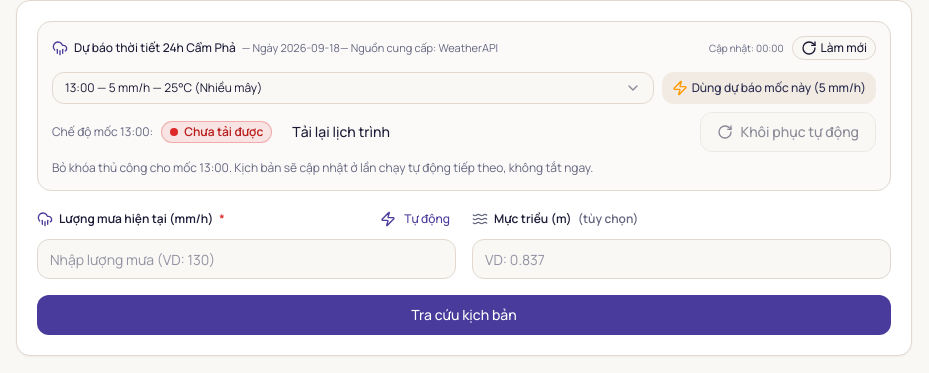
Test: KttvInputForm › shows a retry action when loading the schedule fails
Expected: the button "Khôi phục tự động" is disabled, [700, 112, 876, 152]
Click the button "Tải lại lịch trình" at x=341, y=132, box [280, 114, 402, 150]
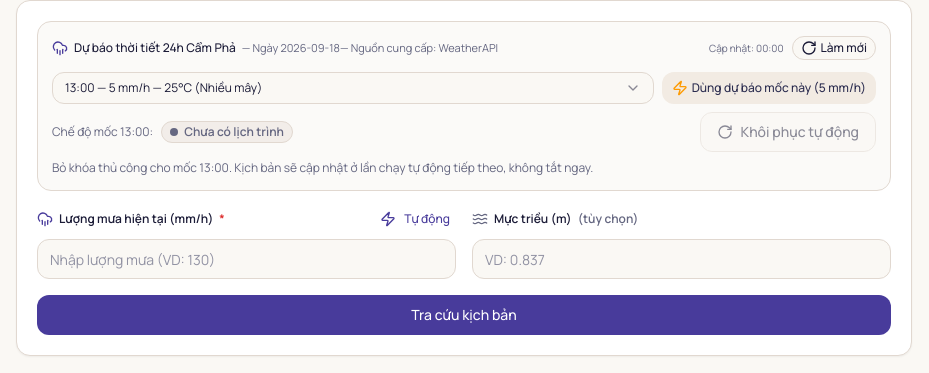
Result: the text "Chưa có lịch trình" is shown at [184, 124, 284, 140]
